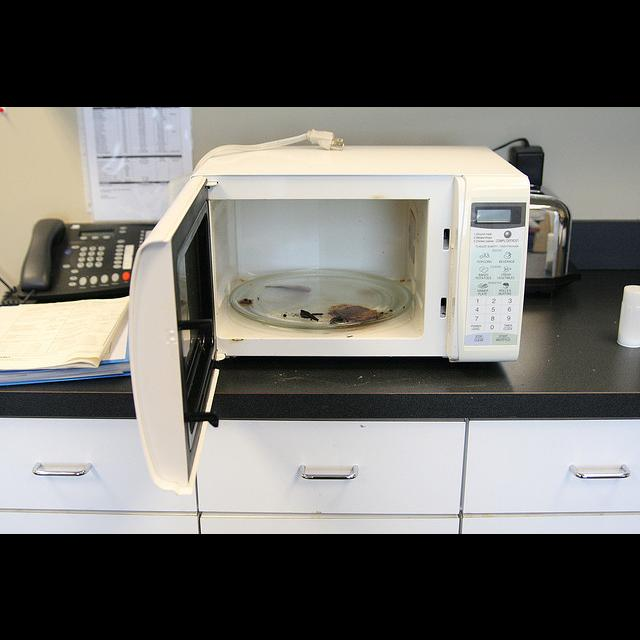Microwave: (128, 142, 529, 502)
